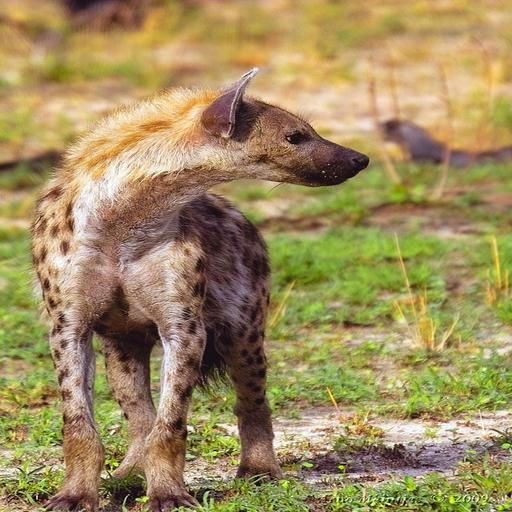Hyena: (26, 65, 373, 510)
